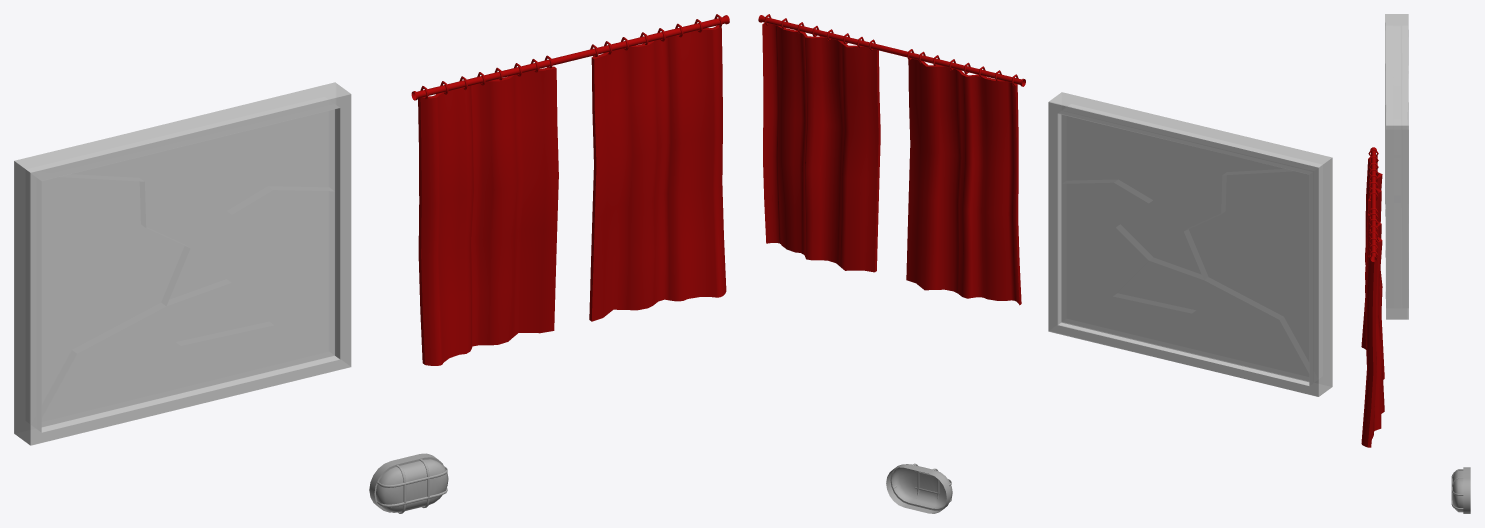
The model's file is MiscAssets_02.fbx.
3 views of the same model, side by side, from view 1: azimuth 30°, elevation 25°; view 2: azimuth 150°, elevation 25°; view 3: azimuth 270°, elevation 25° (orthographic). The views are drawn at different scales.
Visible parts, largest first — view 1: Apartment_Window_01_Full, Curtain_low, frame, piece_03, piece_04, piece_02, piece_01, Door_Light_low; view 2: Apartment_Window_01_Full, Curtain_low, frame, piece_03, piece_04, piece_02, piece_01, Door_Light_low; view 3: Apartment_Window_01_Full, frame, Curtain_low, Door_Light_low.
Boxes of the visible parts, x1=… form: Apartment_Window_01_Full: x1=15, y1=82, x2=351, y2=445; Curtain_low: x1=411, y1=14, x2=729, y2=365; frame: x1=14, y1=83, x2=350, y2=445; piece_03: x1=61, y1=110, x2=334, y2=305; piece_04: x1=42, y1=177, x2=189, y2=416; piece_02: x1=182, y1=190, x2=334, y2=380; piece_01: x1=42, y1=283, x2=273, y2=426; Door_Light_low: x1=369, y1=453, x2=448, y2=513; Apartment_Window_01_Full: x1=1048, y1=92, x2=1332, y2=396; Curtain_low: x1=758, y1=14, x2=1025, y2=305; frame: x1=1049, y1=92, x2=1332, y2=396; piece_03: x1=1062, y1=115, x2=1291, y2=279; piece_04: x1=1184, y1=171, x2=1308, y2=372; piece_02: x1=1062, y1=183, x2=1190, y2=342; piece_01: x1=1114, y1=261, x2=1308, y2=380; Door_Light_low: x1=886, y1=463, x2=952, y2=513; Apartment_Window_01_Full: x1=1385, y1=14, x2=1408, y2=319; frame: x1=1385, y1=14, x2=1408, y2=319; Curtain_low: x1=1361, y1=147, x2=1384, y2=447; Door_Light_low: x1=1451, y1=467, x2=1470, y2=513.
Bounding box in the file's own units: 3.08 × 2.06 × 0.595.
